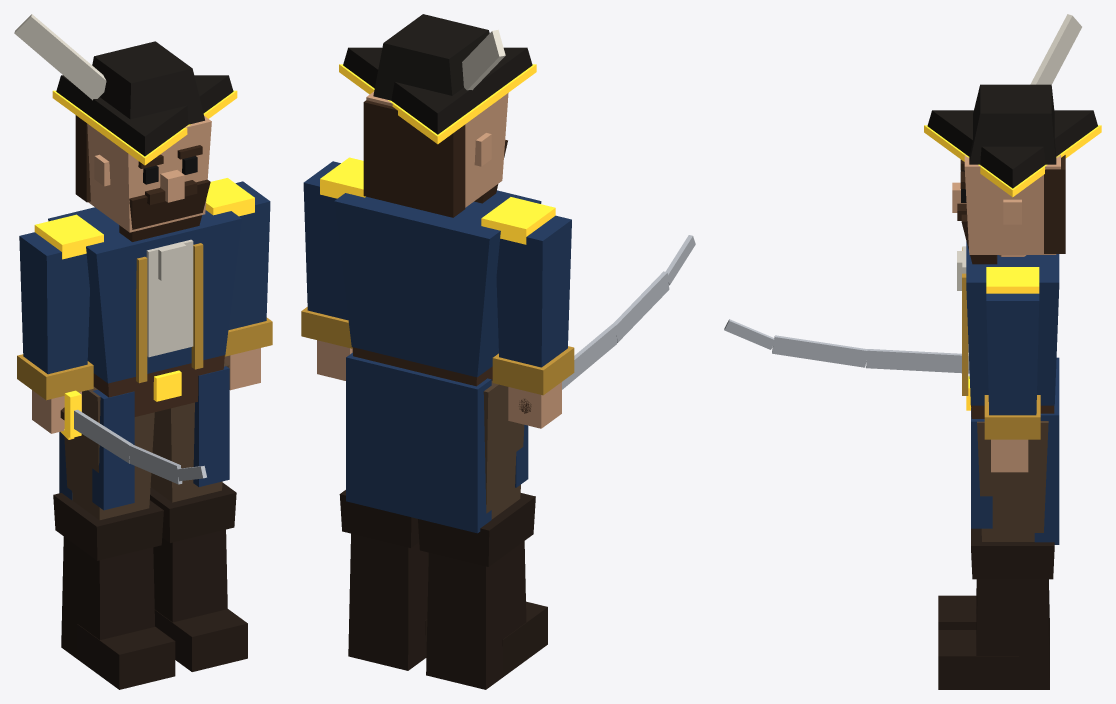
The model's file is Captain.fbx.
The picture shows the model from 3 angles, left to right: view 1: azimuth 30°, elevation 25°; view 2: azimuth 150°, elevation 25°; view 3: azimuth 270°, elevation 25°; orthographic projection. The views are drawn at different scales.
Parts seen in each view (by area): view 1: Body, Head, LegR, LegL, ArmR, ArmL, Sword; view 2: Body, Head, LegR, ArmR, LegL, ArmL, Sword; view 3: Head, LegL, Body, ArmL, Sword, LegR.
Part boxes in pixels (bbox=[...]): Body: bbox=[34, 178, 254, 510]; Head: bbox=[14, 14, 237, 241]; LegR: bbox=[53, 387, 175, 689]; LegL: bbox=[150, 362, 247, 671]; ArmR: bbox=[17, 232, 93, 433]; ArmL: bbox=[224, 181, 272, 390]; Sword: bbox=[60, 390, 206, 484]; Body: bbox=[320, 157, 555, 533]; Head: bbox=[339, 14, 536, 217]; LegR: bbox=[418, 381, 547, 689]; ArmR: bbox=[492, 215, 574, 428]; LegL: bbox=[339, 490, 428, 670]; ArmL: bbox=[301, 161, 352, 380]; Sword: bbox=[519, 235, 695, 413]; Head: bbox=[924, 14, 1101, 264]; LegL: bbox=[938, 421, 1054, 689]; Body: bbox=[957, 241, 1059, 544]; ArmL: bbox=[984, 293, 1040, 472]; Sword: bbox=[724, 319, 969, 373]; LegR: bbox=[938, 579, 1049, 651].
Size of the model in its own units: 0.81 by 2.15 by 1.21.
